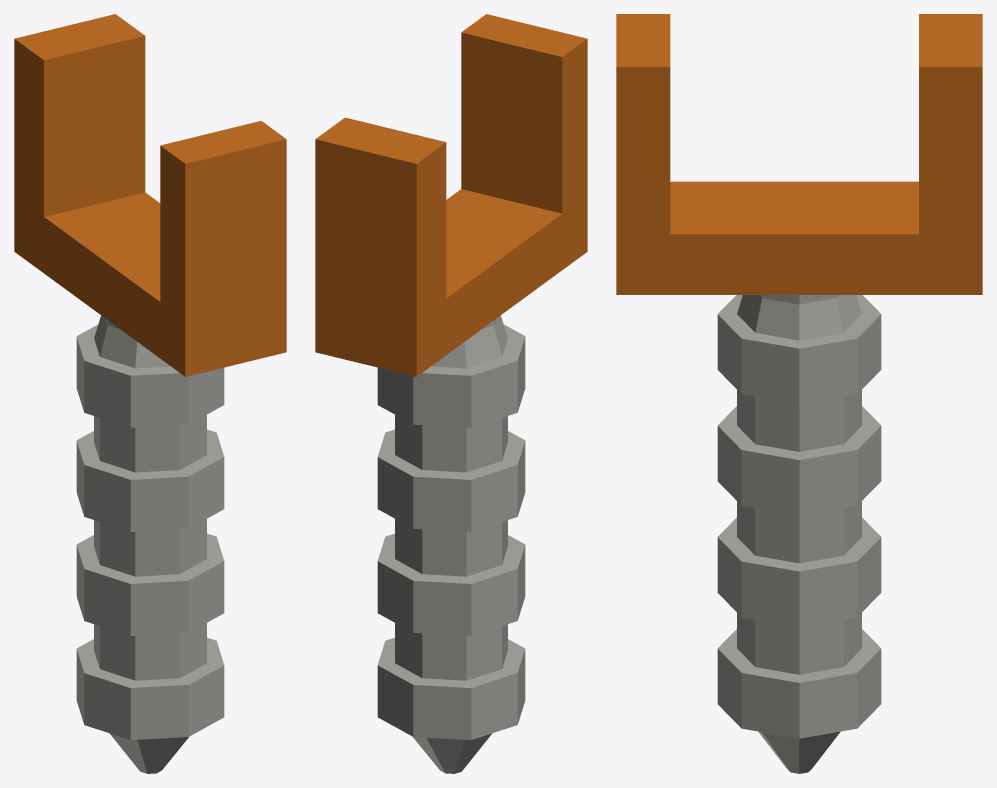
The model's file is additem_3.fbx.
3 renders of one model, left to right at view 1: azimuth 30°, elevation 25°; view 2: azimuth 150°, elevation 25°; view 3: azimuth 270°, elevation 25°, orthographic. The views are drawn at different scales.
Parts seen in each view (by area): view 1: Cylinder; view 2: Cylinder; view 3: Cylinder.
Part boxes in pixels (x1=…): Cylinder: x1=14, y1=14, x2=286, y2=773; Cylinder: x1=315, y1=14, x2=587, y2=773; Cylinder: x1=616, y1=14, x2=982, y2=773.
Size of the model in its own units: 262 by 1285 by 586.
